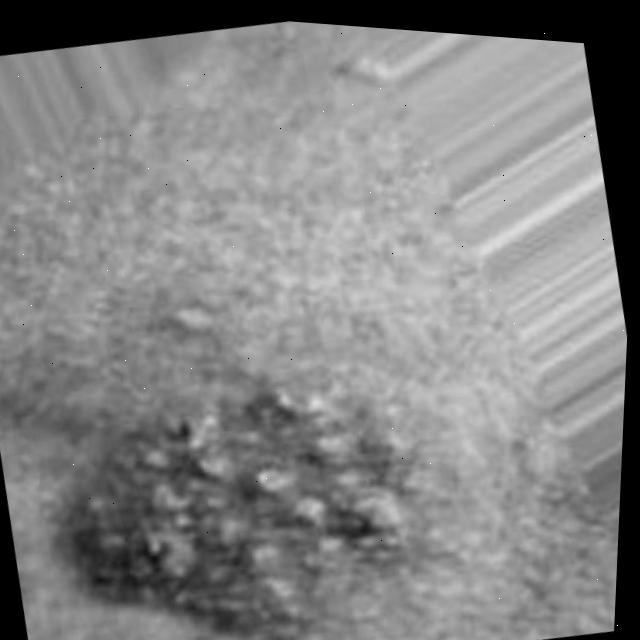Shingles: (28, 350, 436, 640)
